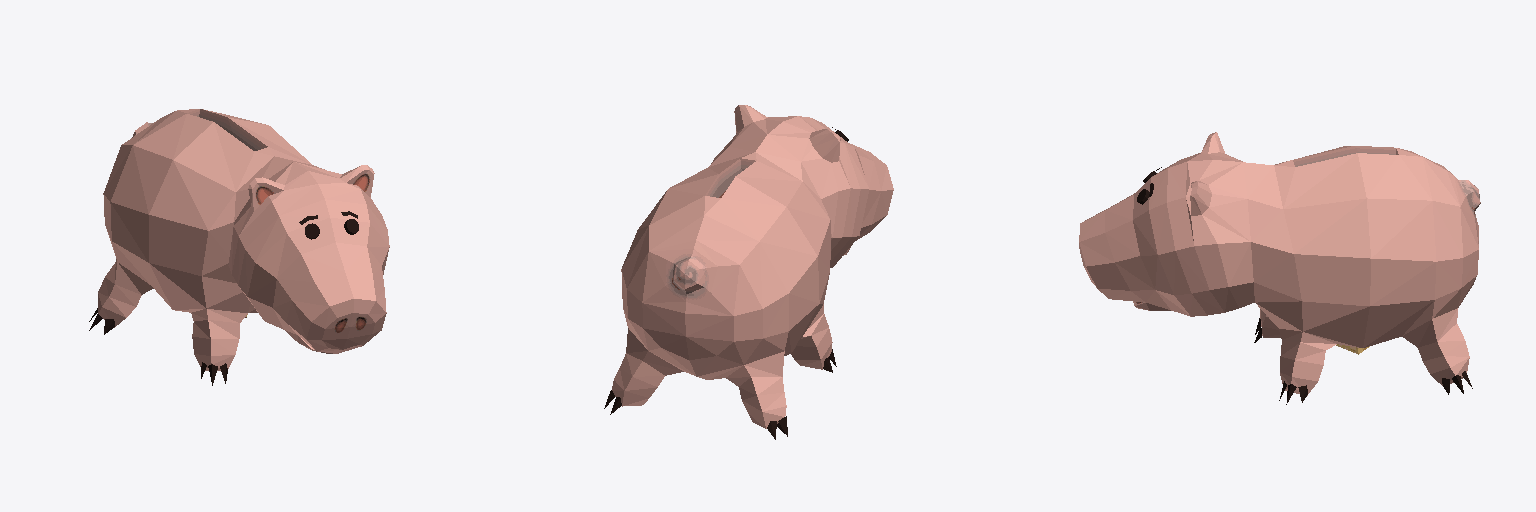
The picture shows the model from 3 angles: view 1: azimuth 30°, elevation 25°; view 2: azimuth 150°, elevation 25°; view 3: azimuth 270°, elevation 25°; orthographic projection.
Visible parts, largest first — view 1: default_2; view 2: default_2; view 3: default_2.
Part boxes in pixels (x1,y1,x2,y2): default_2: (89, 109, 389, 385); default_2: (604, 105, 893, 439); default_2: (1079, 132, 1480, 404).
Size of the model in its own units: 10.74 by 11.96 by 19.95.
Materials: 1 (1 with a texture image).